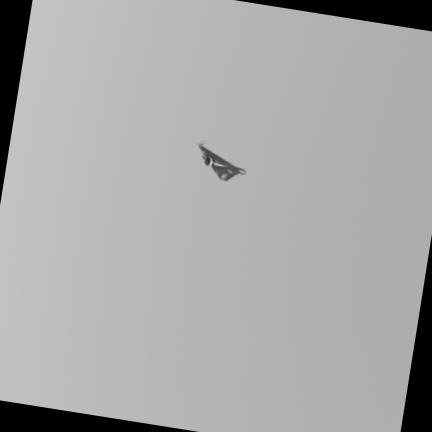Shahed: (197, 141, 244, 181)
